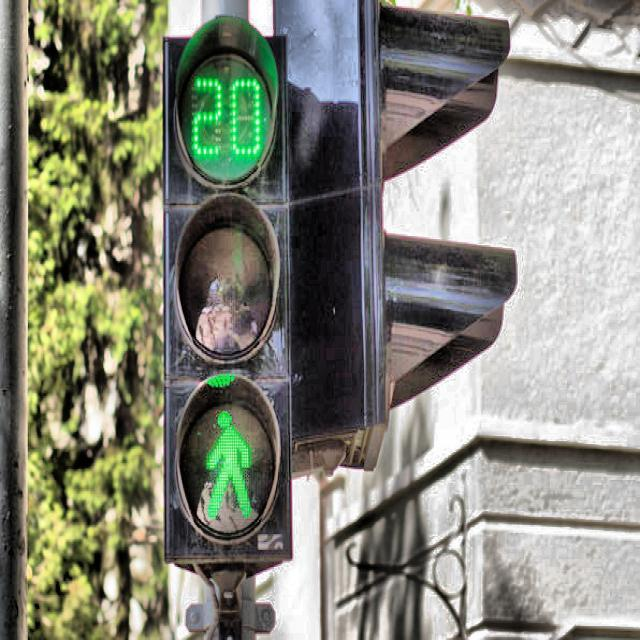green_light: (198, 402, 254, 522)
